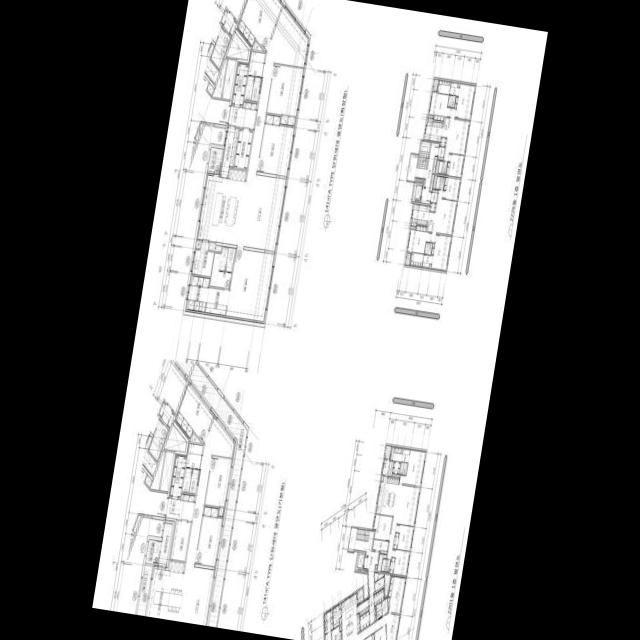background: (92, 0, 548, 640)
space_balconi: (190, 362, 247, 627), (137, 564, 152, 616), (384, 445, 392, 459), (357, 587, 363, 604)
space_bedroom: (226, 248, 275, 323), (174, 381, 214, 443), (237, 0, 283, 51), (267, 64, 304, 126), (258, 114, 295, 176), (205, 456, 233, 517), (196, 506, 223, 566), (399, 449, 426, 486), (170, 520, 191, 561), (431, 234, 452, 271), (455, 83, 476, 119), (407, 225, 432, 253), (429, 91, 452, 121), (388, 575, 406, 613), (373, 514, 392, 540), (396, 524, 414, 551), (392, 549, 410, 575), (443, 176, 461, 200), (446, 153, 464, 177), (375, 625, 386, 640), (389, 557, 395, 573), (393, 533, 399, 548), (364, 633, 374, 640)
space_dressroom: (185, 275, 210, 314), (205, 287, 229, 317), (324, 608, 333, 634), (410, 252, 424, 267), (438, 79, 451, 94), (391, 447, 403, 461), (422, 254, 433, 268), (450, 81, 460, 96), (392, 461, 401, 474)
space_elevator: (412, 183, 423, 202), (356, 552, 365, 571)
space_elevator_hall: (348, 528, 379, 595), (407, 143, 439, 203)
space_front: (165, 493, 196, 521), (228, 101, 257, 129), (169, 454, 187, 498), (231, 62, 249, 105), (372, 539, 389, 554), (369, 594, 376, 624), (374, 587, 384, 605), (360, 611, 369, 630), (437, 146, 445, 160), (431, 189, 439, 202)
space_kitchen: (197, 168, 246, 244), (147, 560, 186, 621), (376, 476, 399, 516), (341, 592, 360, 640), (410, 203, 435, 231), (424, 117, 450, 142)
space_living_room: (236, 4, 309, 251), (178, 415, 236, 626), (387, 484, 420, 558), (349, 613, 400, 640), (444, 108, 470, 160), (431, 190, 457, 242)
space_multipurpose_space: (191, 241, 214, 276)
space_other: (132, 467, 168, 529), (194, 75, 230, 137), (220, 127, 239, 175), (234, 128, 253, 169), (164, 424, 187, 452), (222, 58, 237, 99), (158, 523, 173, 564), (150, 450, 165, 490), (212, 58, 227, 98), (227, 32, 249, 59), (160, 450, 174, 491), (357, 598, 369, 616), (333, 604, 341, 628), (382, 459, 394, 475), (195, 123, 204, 141), (133, 515, 142, 533), (377, 554, 386, 571), (375, 576, 384, 591), (252, 40, 264, 51), (190, 432, 201, 443), (209, 242, 222, 251), (385, 574, 390, 596), (207, 82, 214, 95), (374, 572, 384, 581), (145, 475, 152, 487), (430, 174, 434, 191), (433, 156, 437, 173), (440, 137, 447, 146), (430, 202, 436, 212), (433, 175, 437, 188), (435, 160, 439, 173), (195, 240, 201, 248), (388, 597, 390, 609), (392, 474, 400, 477), (420, 178, 425, 182), (415, 178, 420, 182), (381, 475, 384, 481), (428, 115, 434, 118), (363, 569, 368, 572), (411, 226, 416, 229), (340, 617, 341, 631), (339, 603, 341, 609), (429, 264, 432, 268), (375, 565, 377, 571), (458, 82, 460, 87), (455, 104, 457, 108), (433, 243, 435, 247)
space_outdoor_room: (207, 147, 223, 172), (145, 539, 161, 564), (405, 253, 412, 265), (433, 78, 439, 91)
space_staircase: (417, 141, 431, 168), (356, 529, 370, 542)
space_toilet: (210, 246, 236, 288), (186, 443, 203, 469), (248, 51, 265, 77), (251, 76, 261, 101), (244, 75, 254, 100), (189, 469, 199, 493), (182, 468, 192, 492), (381, 558, 391, 572), (332, 625, 341, 640), (438, 161, 448, 174), (436, 176, 445, 190), (401, 449, 410, 462), (382, 598, 388, 615), (399, 462, 404, 474), (376, 602, 382, 612), (403, 462, 408, 474), (376, 609, 382, 619), (451, 95, 456, 107), (428, 243, 433, 255), (424, 242, 429, 254), (448, 95, 453, 107), (325, 631, 331, 640)
